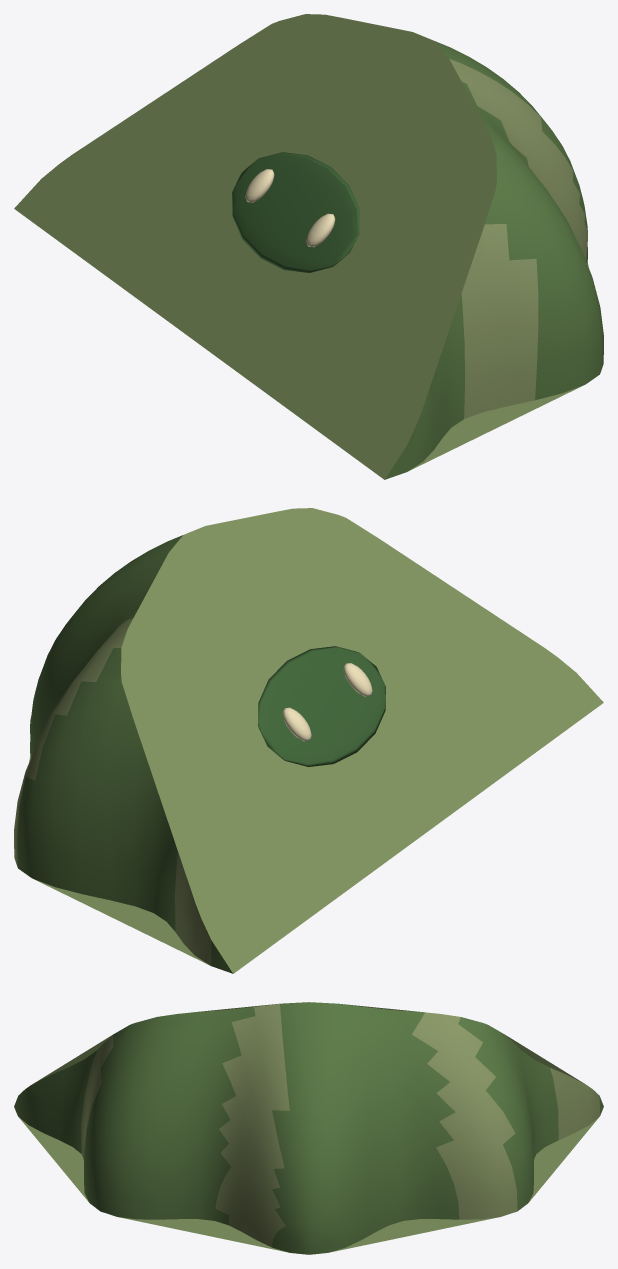
The model's file is event_rainbow_sage_chunk.glb.
3 renders of one model, top to bottom at view 1: azimuth 30°, elevation 25°; view 2: azimuth 150°, elevation 25°; view 3: azimuth 270°, elevation 25°, orthographic. The views are drawn at different scales.
Visible parts, largest first — view 1: sage archive sage heirloom skin / Sage pale longitudinal pin, sage archive sage seed chambers, sage archive Ivory archive seeds; view 2: sage archive sage heirloom skin / Sage pale longitudinal pin, sage archive sage seed chambers, sage archive Ivory archive seeds; view 3: sage archive sage heirloom skin / Sage pale longitudinal pin.
Boxes of the visible parts, <box> form: sage archive sage heirloom skin / Sage pale longitudinal pin: <box>14,14,603,479</box>; sage archive sage seed chambers: <box>232,152,359,272</box>; sage archive Ivory archive seeds: <box>245,169,335,247</box>; sage archive sage heirloom skin / Sage pale longitudinal pin: <box>14,508,603,973</box>; sage archive sage seed chambers: <box>258,646,385,766</box>; sage archive Ivory archive seeds: <box>282,663,372,741</box>; sage archive sage heirloom skin / Sage pale longitudinal pin: <box>14,1002,603,1254</box>.
Bounding box in the file's own units: 0.6877 × 0.4233 × 1.16.
